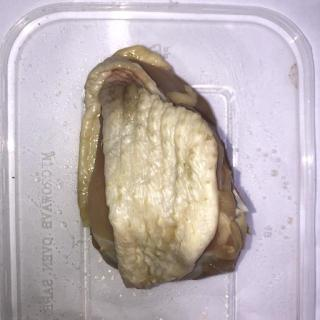Ayam: (77, 44, 253, 291)
